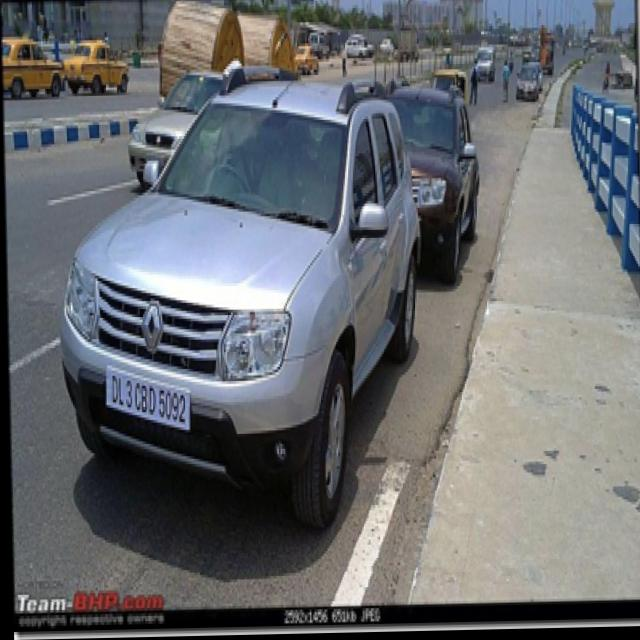licence: (91, 351, 198, 466)
